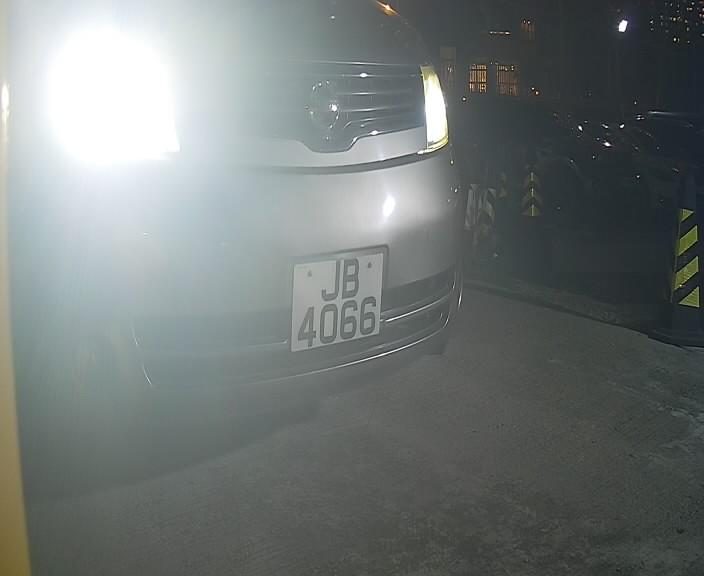Car: (1, 1, 541, 479)
License Plate: (287, 242, 393, 361)
